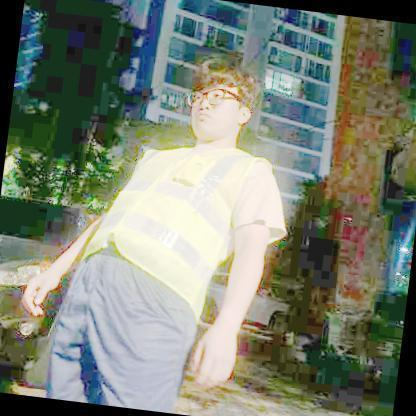no-helmet: (190, 53, 261, 121)
vest: (74, 129, 276, 331)
